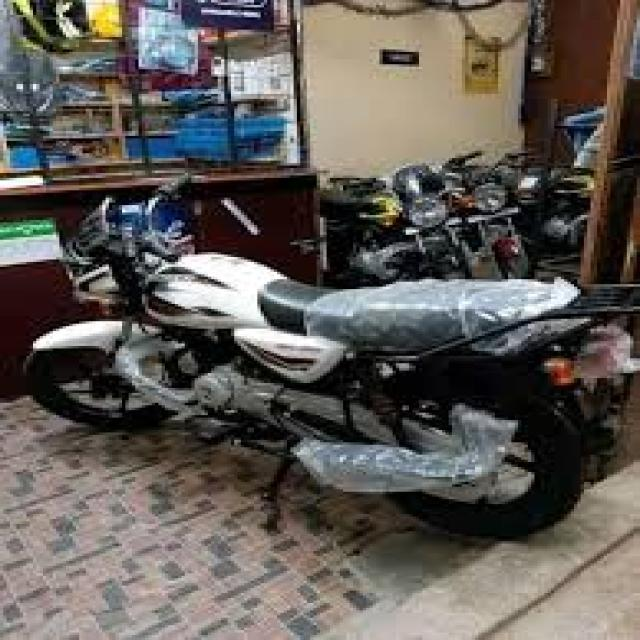bodaboda: (3, 146, 640, 573)
